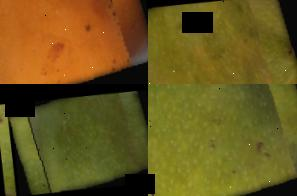PartiallyRipe: (148, 0, 297, 84)
Ripe: (0, 0, 148, 84)
Unripe: (148, 84, 297, 196), (8, 85, 148, 196)
